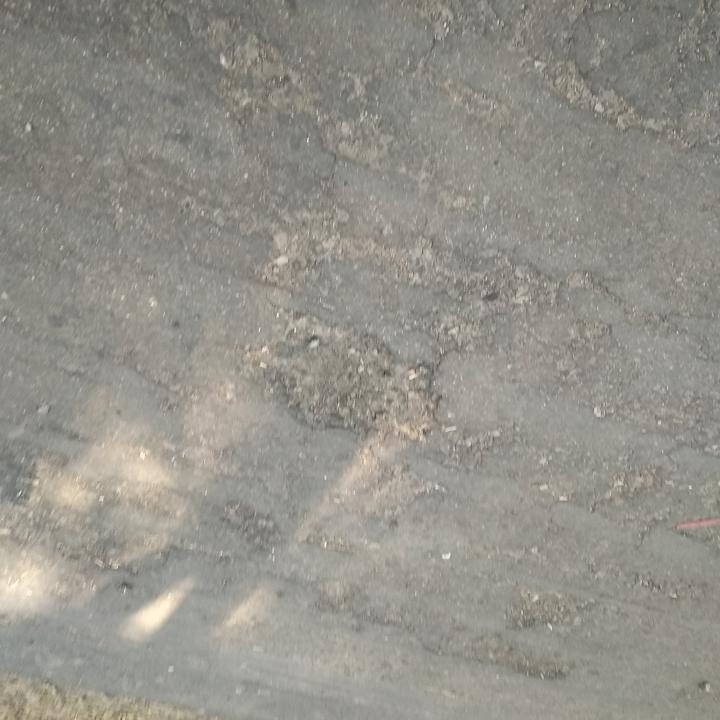pothole: (236, 310, 451, 451)
